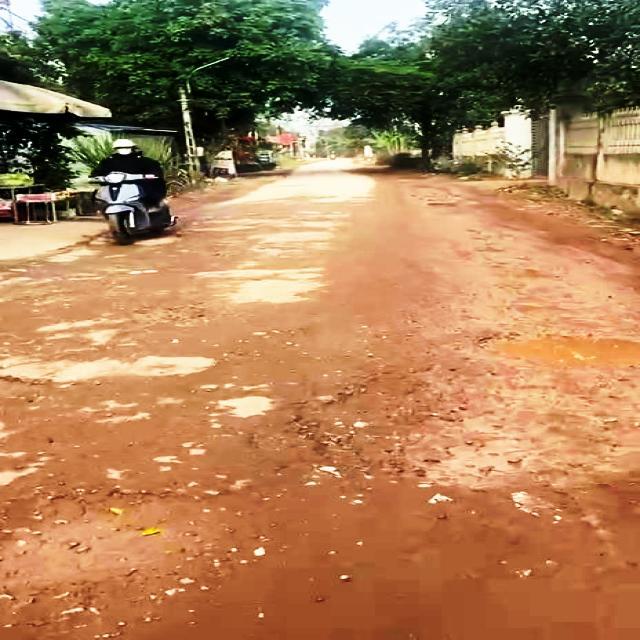pothole: (288, 386, 603, 495), (0, 486, 234, 597), (478, 331, 640, 368), (0, 374, 59, 418)
